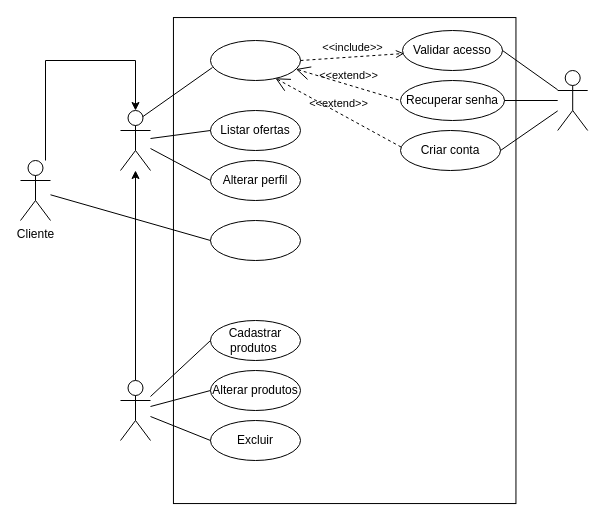
Image size: 612x522. Some labels were removed from this diagram. Each missing label, with the centre of its shape:
"Login" goes at [255,60].
"Reservar oferta" goes at [255,240].
"Sistema" goes at [572,100].
"Usuário" goes at [135,140].
"Vendedor" goes at [135,410].
